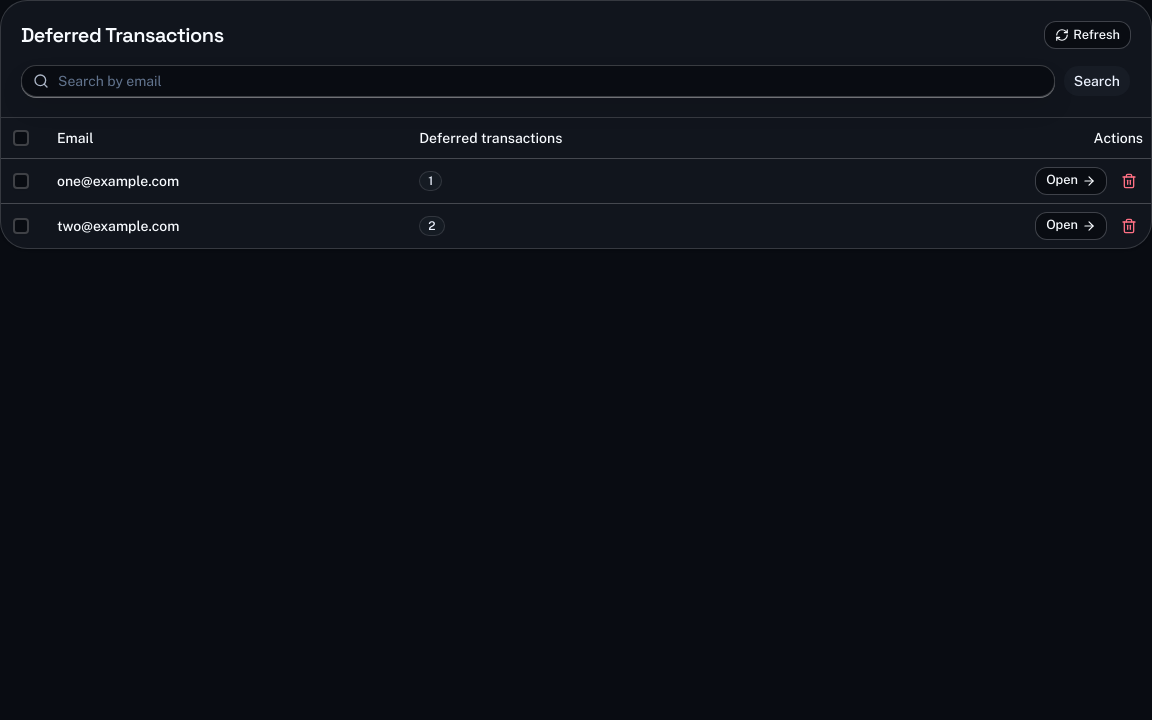
Test: deferred service transaction workbenches › selects all loaded indexes and deletes them sequentially without deleting root transactions
Check: the text "one@example.com" is shown, box [49, 158, 411, 203]
Step 1. Click the checkbox named "Select deferred transaction index one@example.com" → (21, 180), box [13, 172, 29, 188]
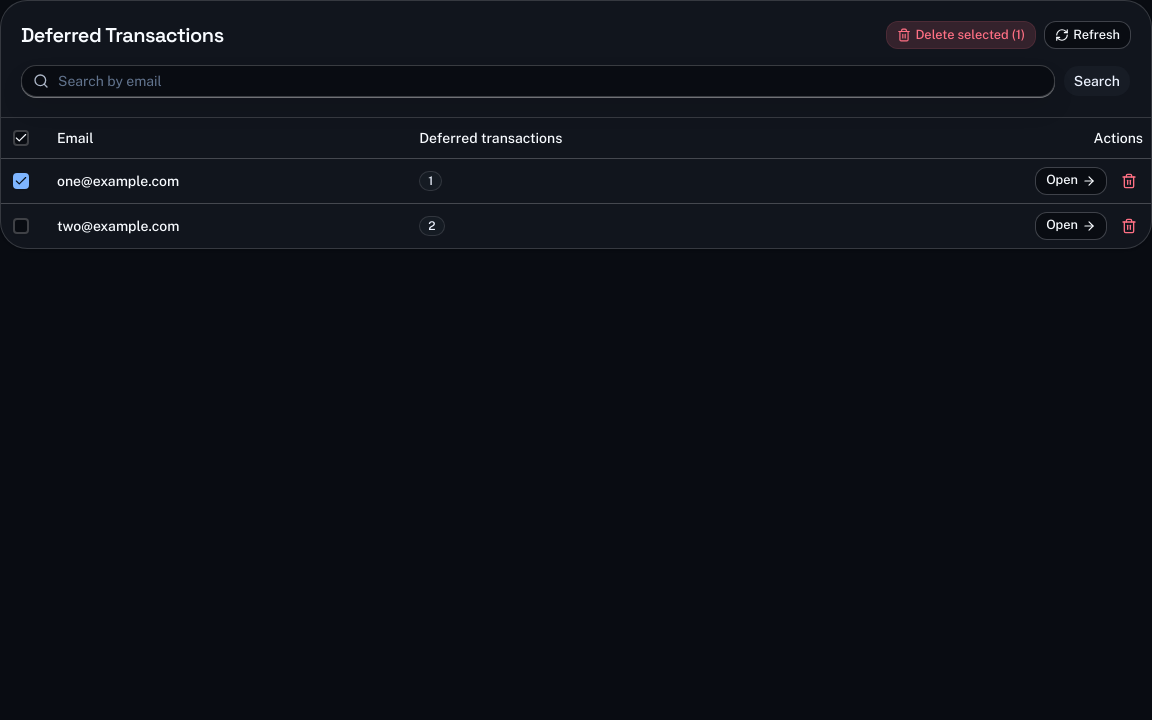
Check: the checkbox named "Select all visible deferred transaction indexes" has attribute aria-checked="mixed"
Step 2. Click the checkbox named "Select all visible deferred transaction indexes" → (21, 138), box [13, 130, 29, 146]
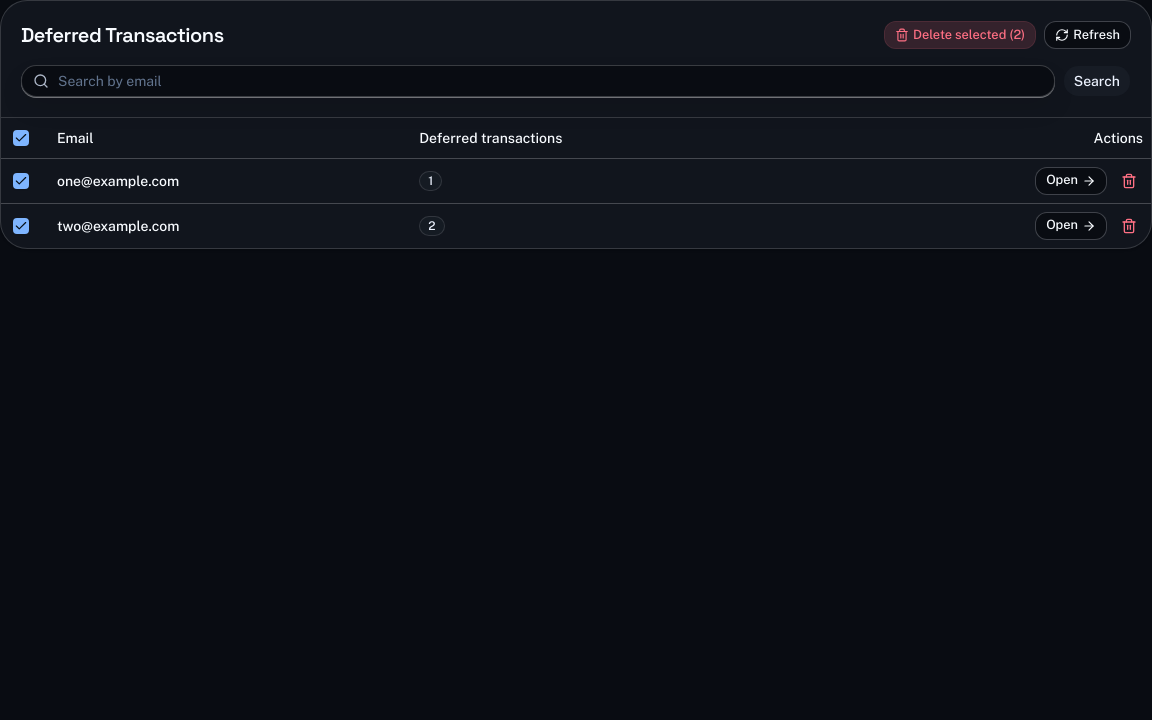
Check: the checkbox named "Select deferred transaction index one@example.com" is checked, box [13, 172, 29, 188]
Check: the checkbox named "Select deferred transaction index two@example.com" is checked, box [13, 218, 29, 234]
Step 3. Click the button "Delete selected (2)" → (960, 35), box [884, 21, 1036, 49]
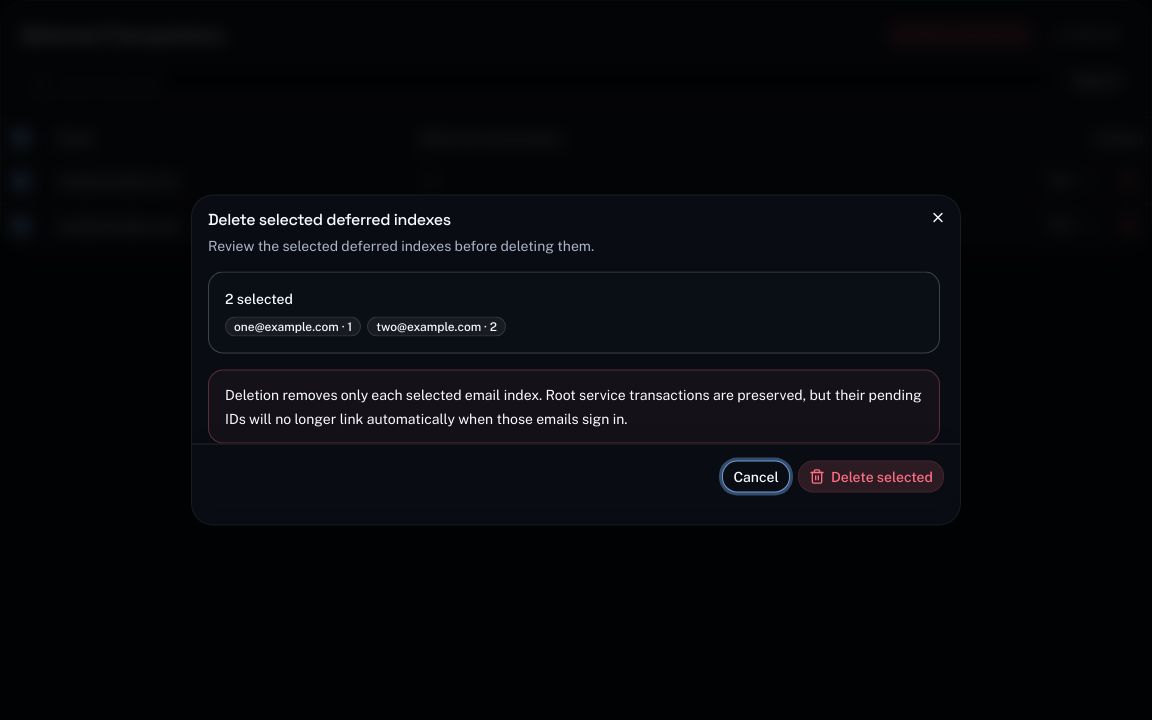
Check: the text "Deletion removes only each selected email index. Root service transactions are preserved, but their pending IDs will no " is shown, box [225, 386, 922, 426]
Step 4. Click the button "Delete selected" → (871, 476), box [798, 460, 944, 492]
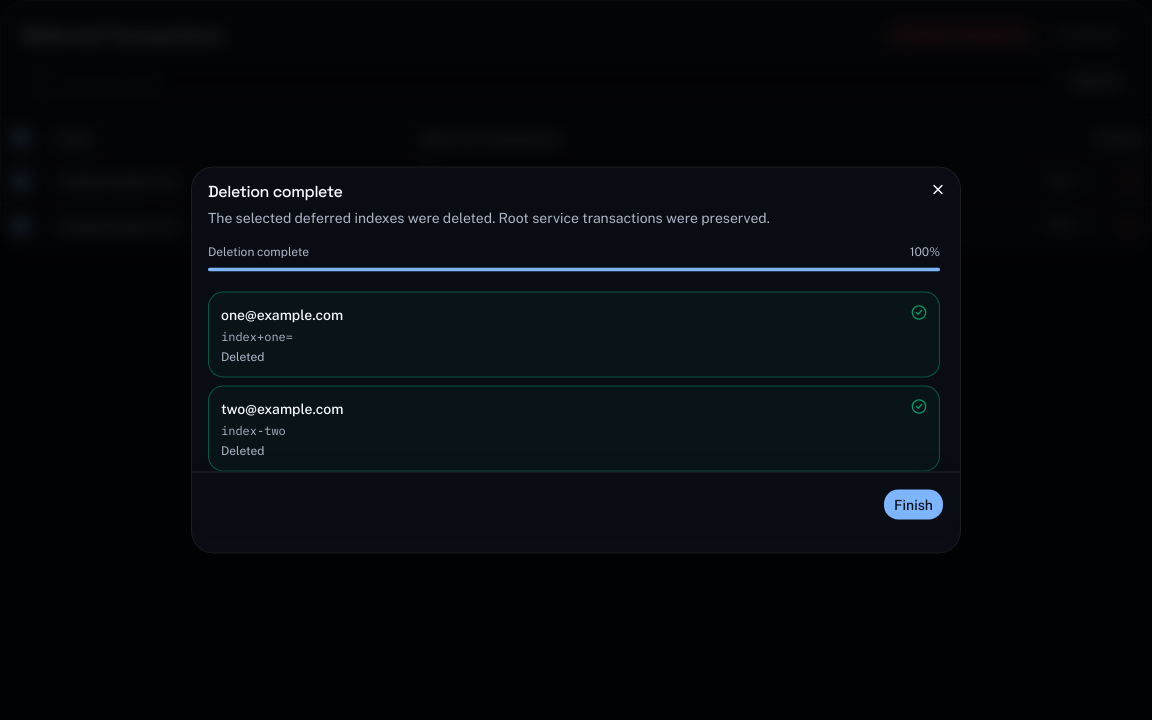
Check: the text "The selected deferred indexes were deleted. Root service transactions were preserved." is shown, box [208, 210, 770, 226]
Check: the text "100%" is shown, box [910, 244, 940, 260]
Step 5. Click the button "Finish" → (914, 504), box [883, 488, 944, 520]
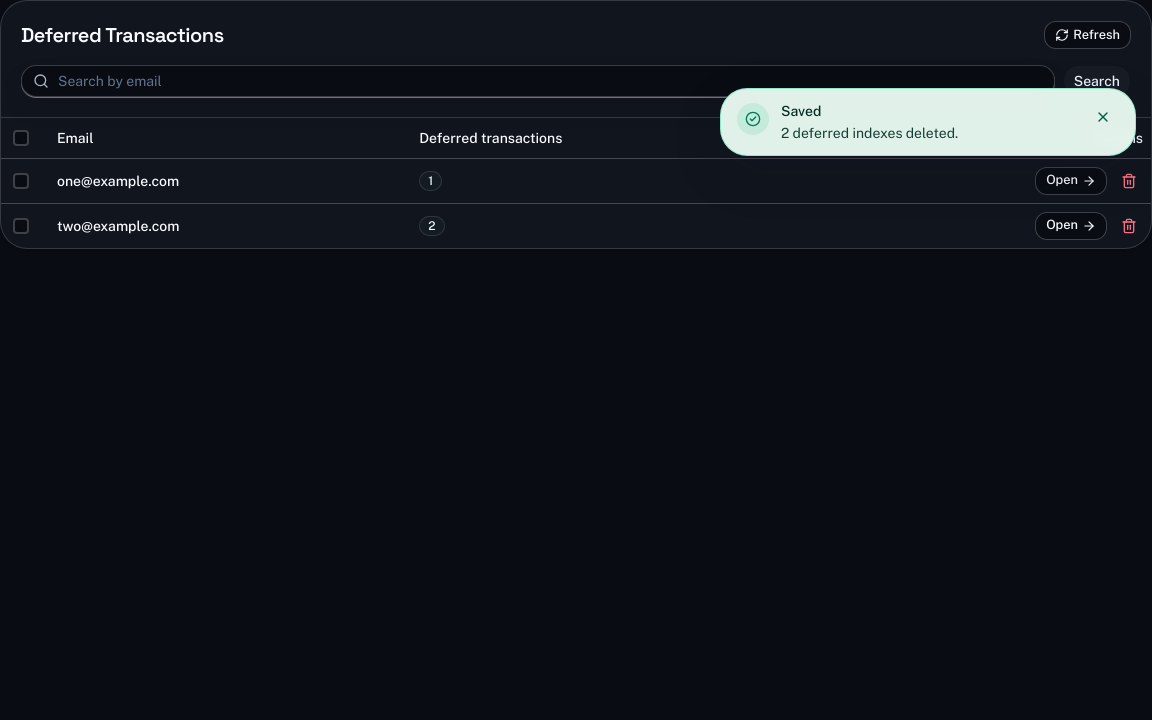
Check: the button "Delete selected (2)" is not shown
Check: the heading "Deletion complete" is gone
